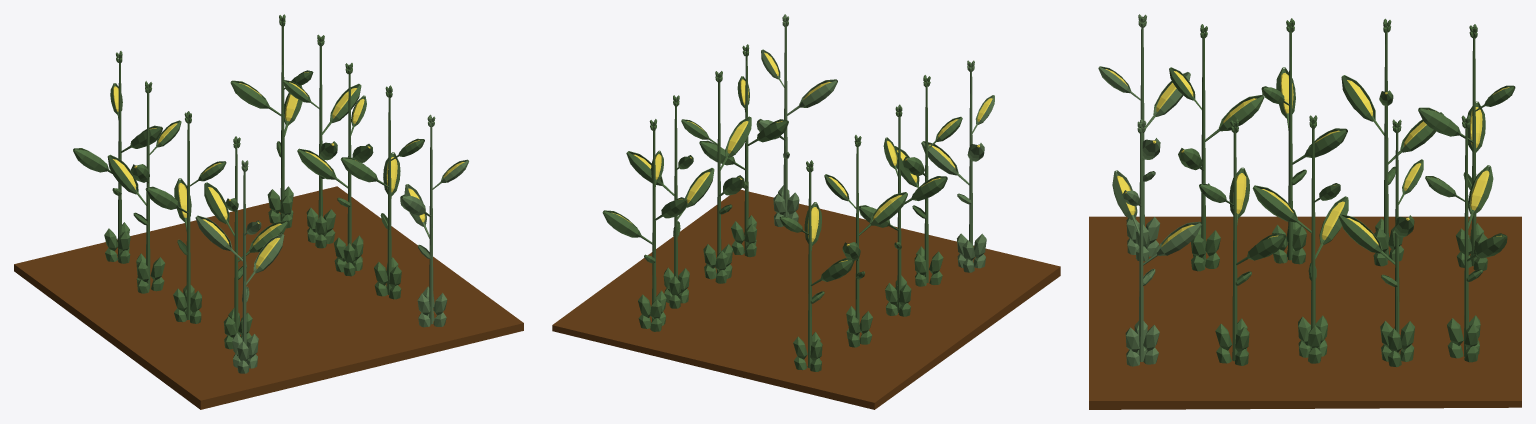
Rendered from Corn.fbx.
3 renders of one model, left to right at view 1: azimuth 30°, elevation 25°; view 2: azimuth 150°, elevation 25°; view 3: azimuth 270°, elevation 25°, orthographic. The views are drawn at different scales.
Parts seen in each view (by area): view 1: Corn, Cylinder.017, Cylinder.012, Cylinder.011, Cylinder.015, Cylinder.018, Cylinder.019, Cylinder, Cylinder.013, Cylinder.016, Cylinder.014; view 2: Corn, Cylinder.011, Cylinder, Cylinder.019, Cylinder.017, Cylinder.014, Cylinder.018, Cylinder.015, Cylinder.012, Cylinder.016, Cylinder.013; view 3: Corn, Cylinder.011, Cylinder.013, Cylinder.019, Cylinder, Cylinder.012, Cylinder.016, Cylinder.015, Cylinder.018, Cylinder.014, Cylinder.017.
Part boxes in pixels (x1=…): Corn: x1=14, y1=186, x2=523, y2=409; Cylinder.017: x1=195, y1=160, x2=284, y2=373; Cylinder.012: x1=340, y1=85, x2=424, y2=299; Cylinder.011: x1=297, y1=63, x2=373, y2=276; Cylinder.015: x1=145, y1=111, x2=226, y2=323; Cylinder.018: x1=107, y1=81, x2=181, y2=293; Cylinder.019: x1=230, y1=14, x2=313, y2=228; Cylinder: x1=282, y1=34, x2=361, y2=248; Cylinder.013: x1=400, y1=114, x2=468, y2=327; Cylinder.016: x1=204, y1=136, x2=287, y2=349; Cylinder.014: x1=73, y1=51, x2=162, y2=263; Corn: x1=552, y1=189, x2=1060, y2=409; Cylinder.011: x1=681, y1=71, x2=751, y2=283; Cylinder: x1=626, y1=95, x2=714, y2=308; Cylinder.019: x1=602, y1=119, x2=687, y2=331; Cylinder.017: x1=921, y1=60, x2=994, y2=272; Cylinder.014: x1=779, y1=160, x2=854, y2=371; Cylinder.018: x1=824, y1=135, x2=907, y2=347; Cylinder.015: x1=859, y1=104, x2=947, y2=316; Cylinder.012: x1=699, y1=44, x2=788, y2=257; Cylinder.016: x1=894, y1=75, x2=962, y2=286; Cylinder.013: x1=756, y1=14, x2=837, y2=226; Corn: x1=1089, y1=216, x2=1521, y2=409; Cylinder.011: x1=1252, y1=115, x2=1348, y2=363; Cylinder.013: x1=1112, y1=119, x2=1202, y2=366; Cylinder.019: x1=1425, y1=115, x2=1507, y2=362; Cylinder: x1=1338, y1=119, x2=1423, y2=367; Cylinder.012: x1=1199, y1=119, x2=1285, y2=365; Cylinder.016: x1=1169, y1=24, x2=1264, y2=271; Cylinder.015: x1=1261, y1=18, x2=1347, y2=264; Cylinder.018: x1=1341, y1=18, x2=1443, y2=266; Cylinder.014: x1=1418, y1=24, x2=1515, y2=270; Cylinder.017: x1=1098, y1=14, x2=1190, y2=261.
Size of the model in its own units: 1.66 by 1.07 by 1.66.
